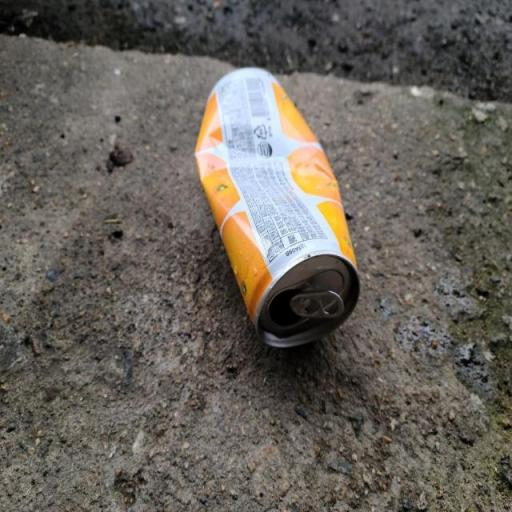metal: (182, 41, 369, 383)
